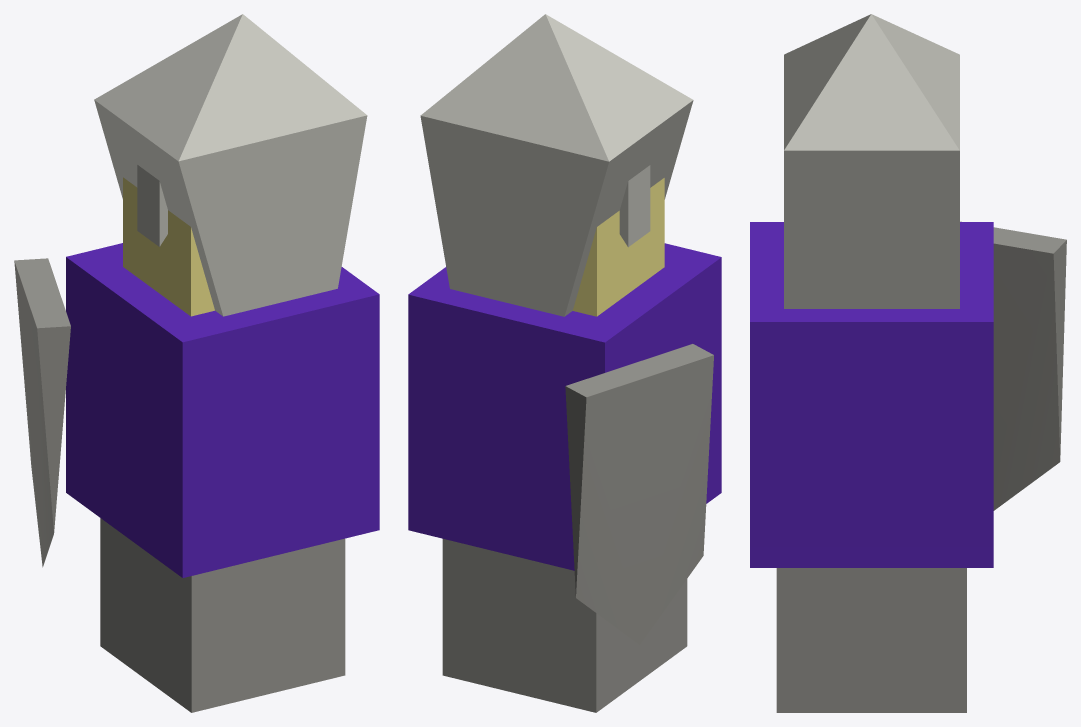
File: footsoilder.fbx
3 renders of one model, left to right at view 1: azimuth 30°, elevation 25°; view 2: azimuth 150°, elevation 25°; view 3: azimuth 270°, elevation 25°, orthographic. The views are drawn at different scales.
Parts seen in each view (by area): view 1: polySurface159; view 2: polySurface159; view 3: polySurface159.
Boxes of the visible parts, box(x1,y1,x2,y2) form: polySurface159: box(14, 14, 379, 712); polySurface159: box(408, 14, 721, 712); polySurface159: box(750, 14, 1066, 712).
Size of the model in its own units: 16.02 by 36.42 by 15.62.
Materials: 1 (1 with a texture image).
